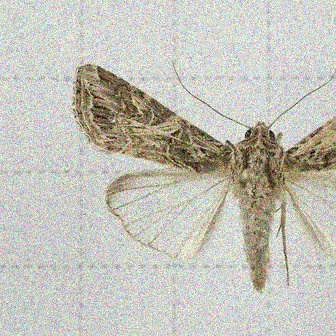Spodoptera litura: (71, 61, 336, 292)
